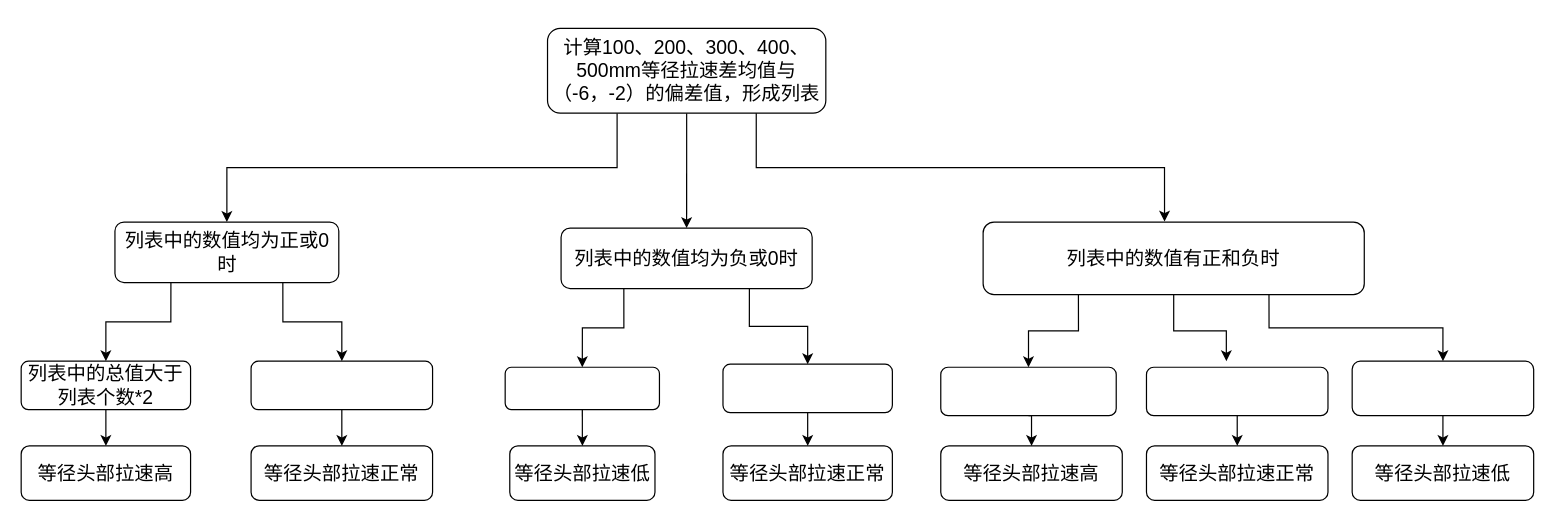
This 1555x522 diagram has some shape labels left out. The centre of each missing label's shape, as x and y in pixels:
"列表中的总值在[-2,2]范围内" goes at (1236,391).
"列表中的总值大于2" goes at (1028,391).
"列表中的总值大于等于列表个数 *-2" goes at (807,388).
"列表中的总值小于 -2" goes at (1442,388).
"列表中的总值小于列表个数 *-2" goes at (581,388).
"列表中的总值小于等于列表个数 *2" goes at (341,385).
